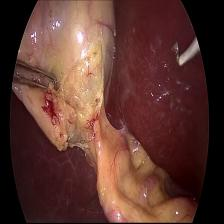Grasper: (11, 58, 60, 90)
Hook: (169, 26, 205, 76)
